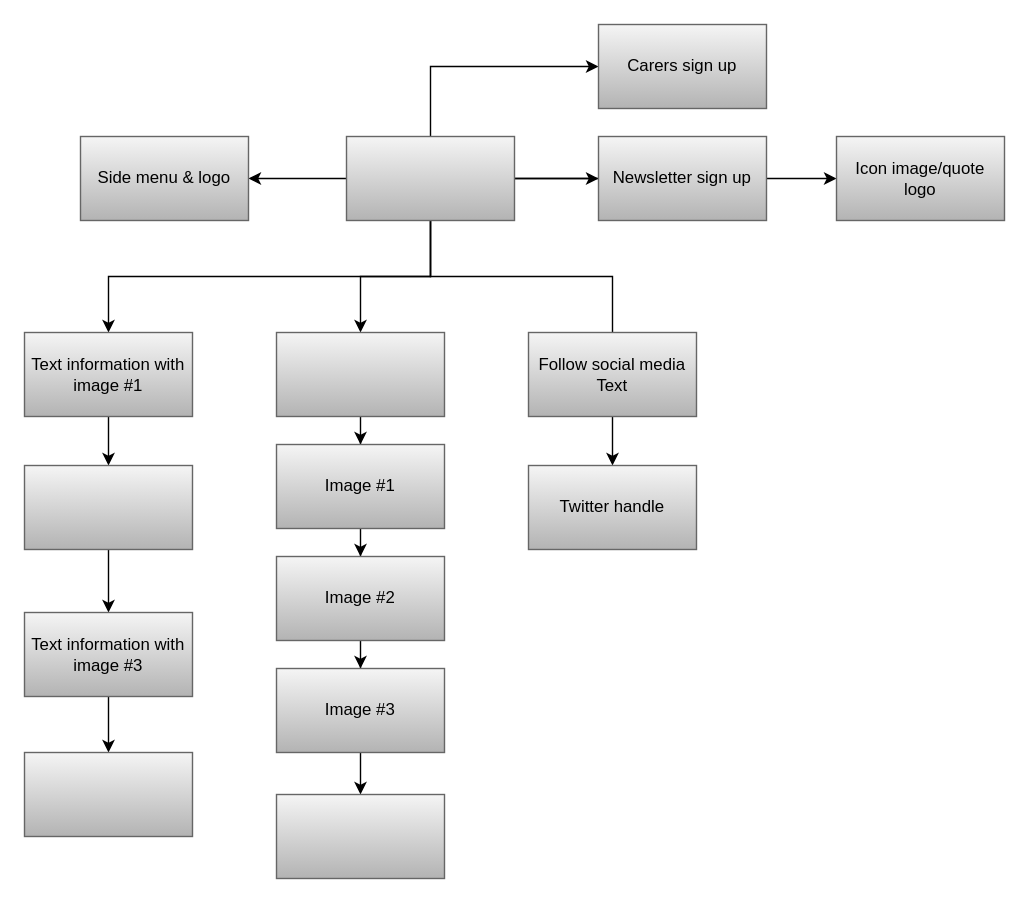
The diagram is 1029 pixels wide and 903 high, and some of its shapes have lost their labels. The shapes that lost their labels are listed below. From the top down, each one's centre as x and y in pixels, then its label:
the point at 429,177: Header
the point at 359,373: Image slideshow with text
the point at 107,507: Text information with image #2
the point at 107,793: Text information with image #4
the point at 359,835: Image #4
